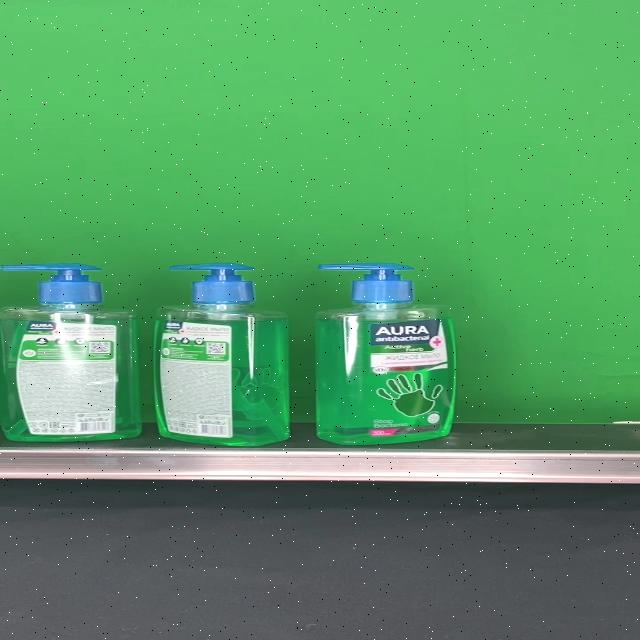Bottle: (316, 262, 456, 446), (0, 263, 142, 442), (153, 264, 290, 446)
Cap: (0, 262, 103, 303), (317, 263, 413, 305), (169, 264, 257, 306)
